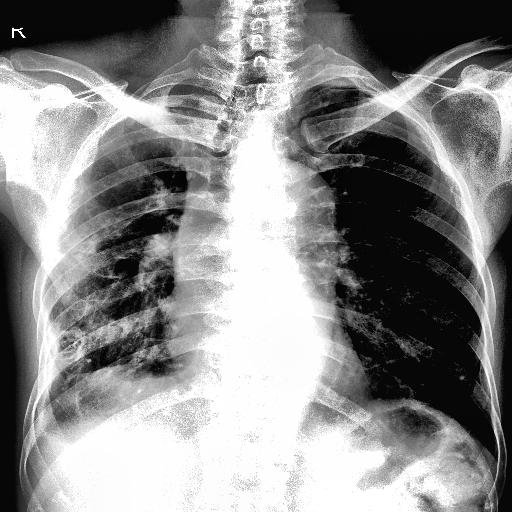0- Aortic enlargement: (179, 165, 336, 297), (232, 156, 340, 274), (267, 158, 337, 230)
10- Pleural effusion: (15, 399, 79, 466), (32, 373, 70, 425)
11- Pleural thickening: (302, 70, 408, 114), (124, 83, 231, 119), (124, 80, 204, 125), (318, 80, 398, 114), (35, 320, 59, 423), (35, 304, 58, 396), (32, 373, 70, 425), (40, 315, 60, 381)
13- Pulmonary fibrosis: (52, 196, 172, 282), (64, 184, 169, 264), (66, 199, 169, 279), (58, 328, 86, 413), (58, 324, 90, 398)
7- Lung Opacity: (38, 284, 188, 402), (57, 272, 149, 360)
9- Other lesion: (189, 81, 265, 231)
